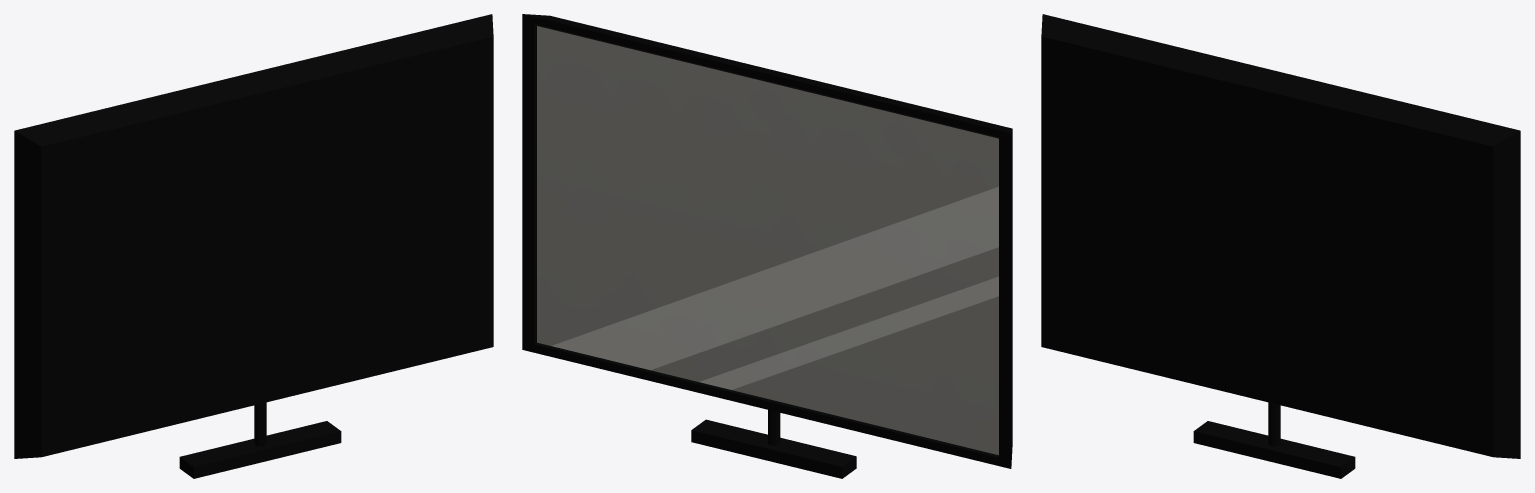
Rendered from PROP_tv.fbx.
3 renders of one model, left to right at view 1: azimuth 30°, elevation 25°; view 2: azimuth 150°, elevation 25°; view 3: azimuth 330°, elevation 25°, orthographic. The views are drawn at different scales.
Parts seen in each view (by area): view 1: PROP_tv; view 2: PROP_tv; view 3: PROP_tv.
Part boxes in pixels (left/top/right/bottom): PROP_tv: left=14, top=14, right=493, bottom=478; PROP_tv: left=522, top=14, right=1012, bottom=478; PROP_tv: left=1041, top=14, right=1520, bottom=478.
Size of the model in its own units: 150 by 113 by 7.69.
